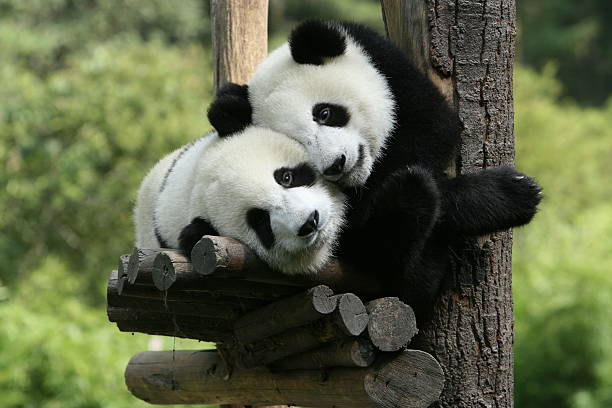panda: (212, 14, 425, 188), (169, 93, 354, 281)
